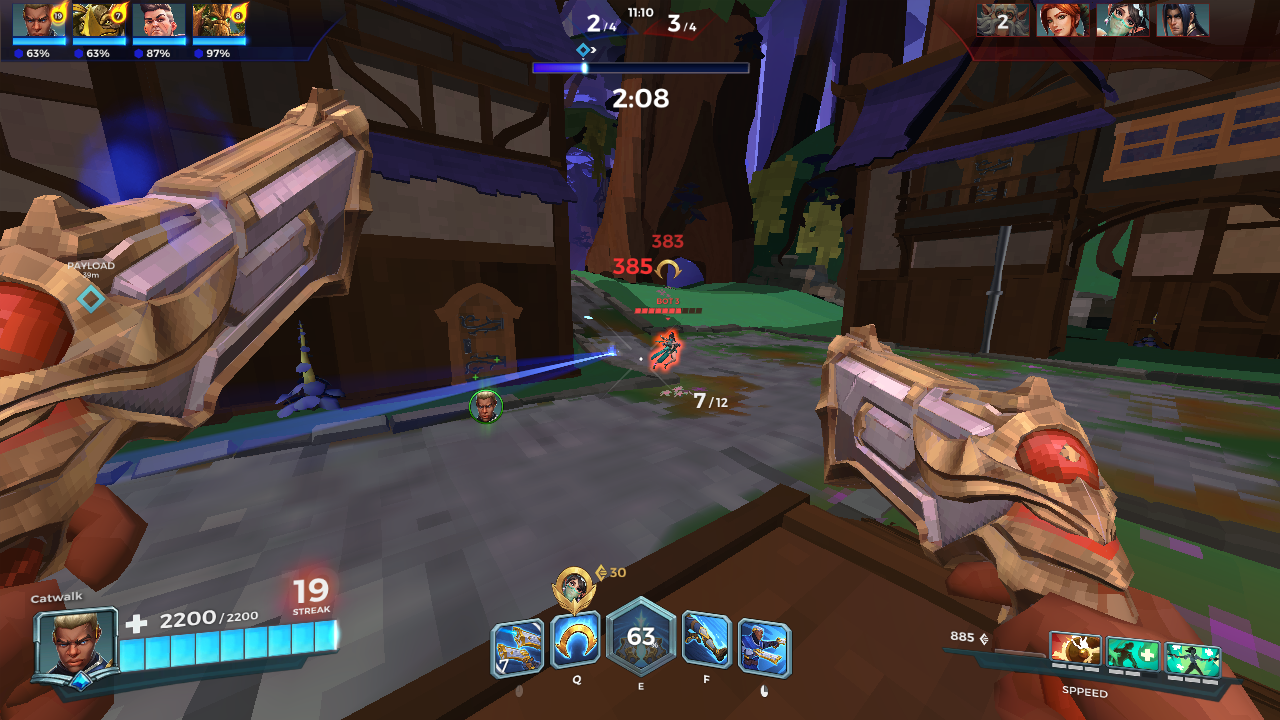model: (652, 326, 687, 373)
